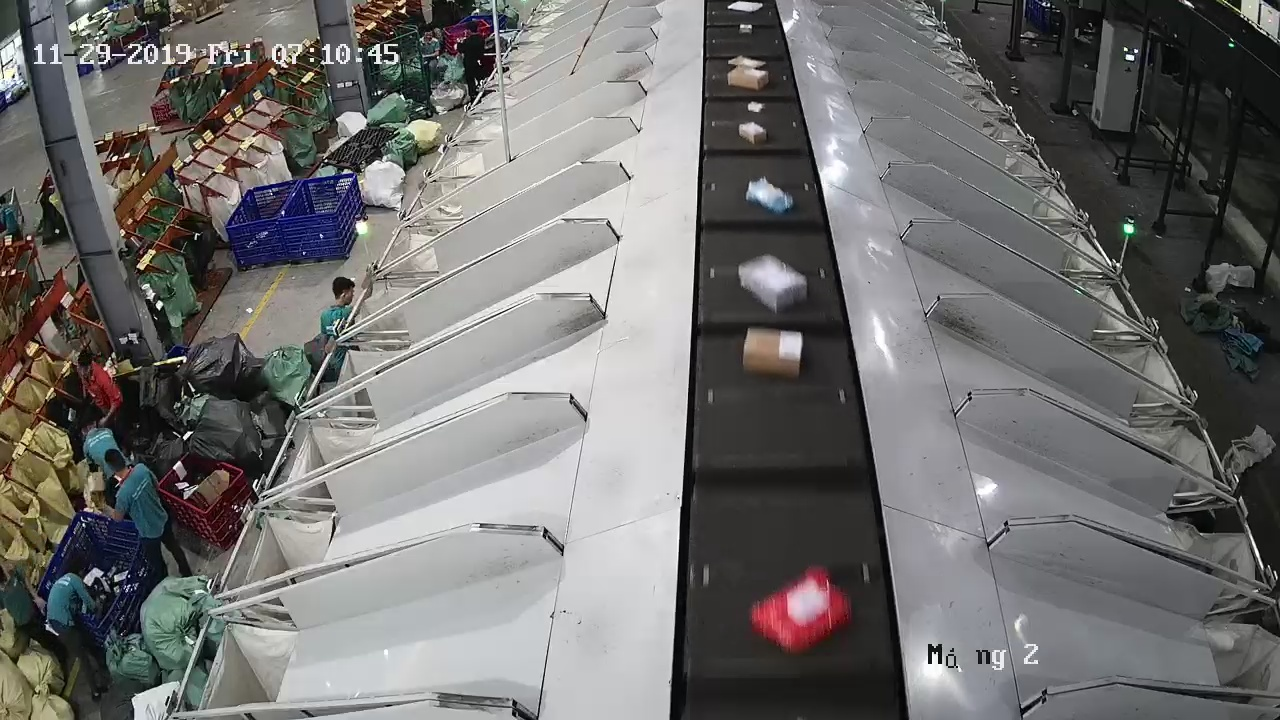parcel: (750, 569, 852, 656), (739, 255, 808, 313), (742, 327, 803, 379), (745, 176, 794, 215), (738, 121, 767, 145)
